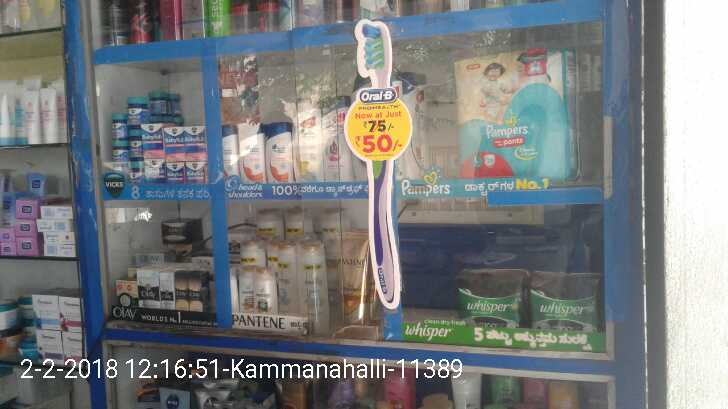beauty: (293, 241, 332, 337), (337, 227, 372, 331), (265, 120, 294, 183), (250, 266, 281, 320), (173, 267, 207, 310), (138, 265, 160, 310), (159, 218, 195, 243), (126, 96, 148, 126), (160, 274, 175, 312), (109, 113, 129, 141)
pharmacy: (451, 47, 575, 186), (527, 270, 603, 330), (455, 266, 530, 326), (147, 89, 170, 117)
